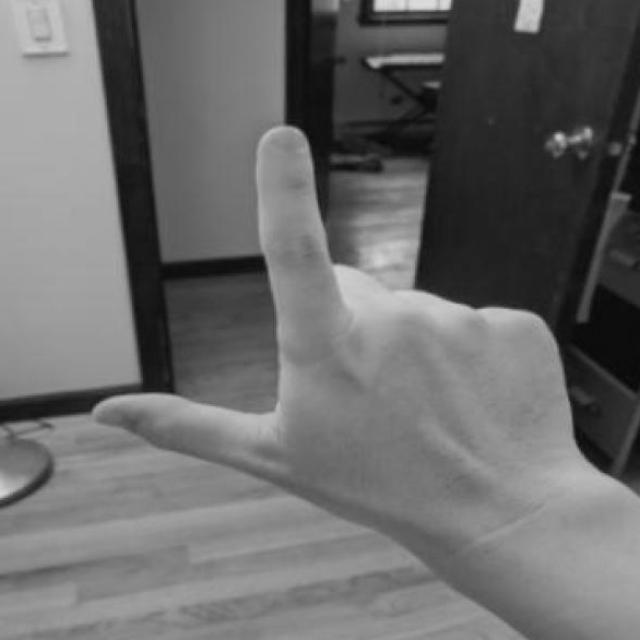L: (91, 123, 600, 568)
